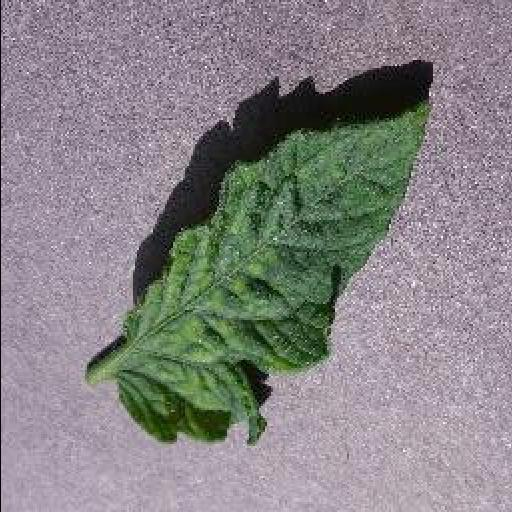disease_tomato: (110, 98, 436, 450)
